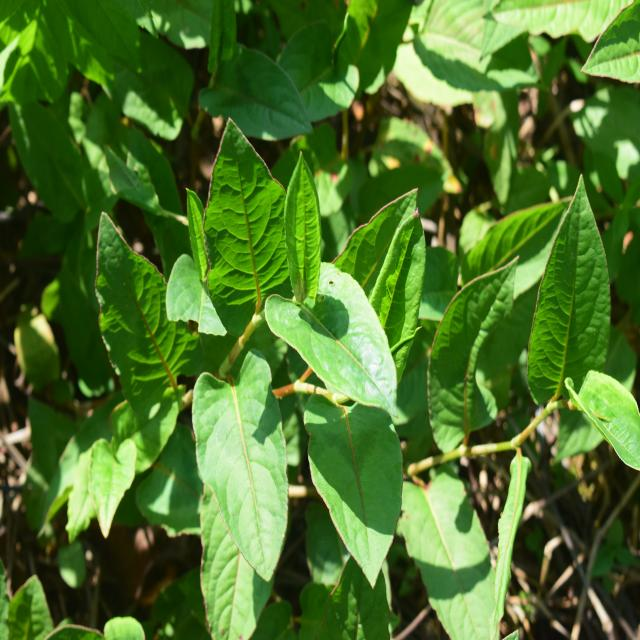Chinese_knotweed: (137, 131, 422, 597)
